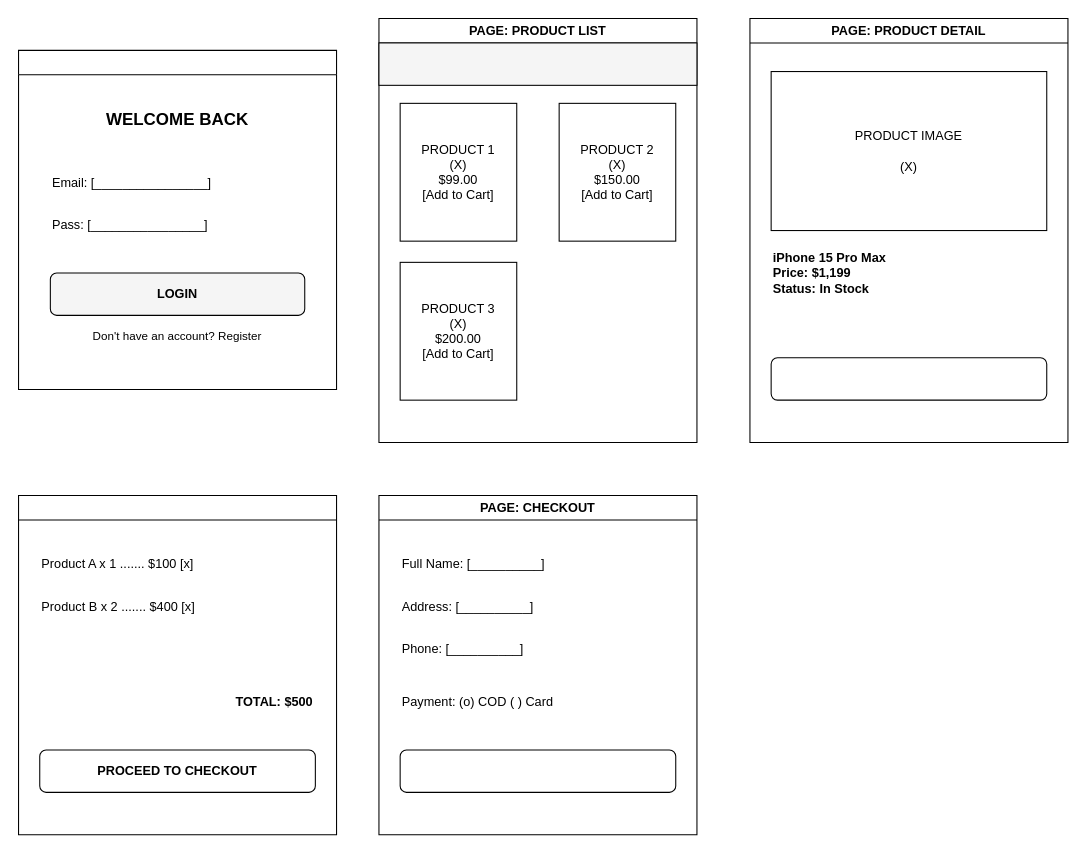
Some shapes in this 1087 by 853 pixel diagram are drawn without their labels. Here are the shapes that lost their labels. From the top down, the box of each, then its label:
(378, 42, 697, 85): [LOGO] [Search...] [Cart(0)]
(17, 49, 337, 390): PAGE: LOGIN / REGISTER
(770, 357, 1047, 400): ADD TO CART NOW
(17, 494, 337, 835): PAGE: SHOPPING CART
(399, 749, 676, 792): PLACE ORDER
